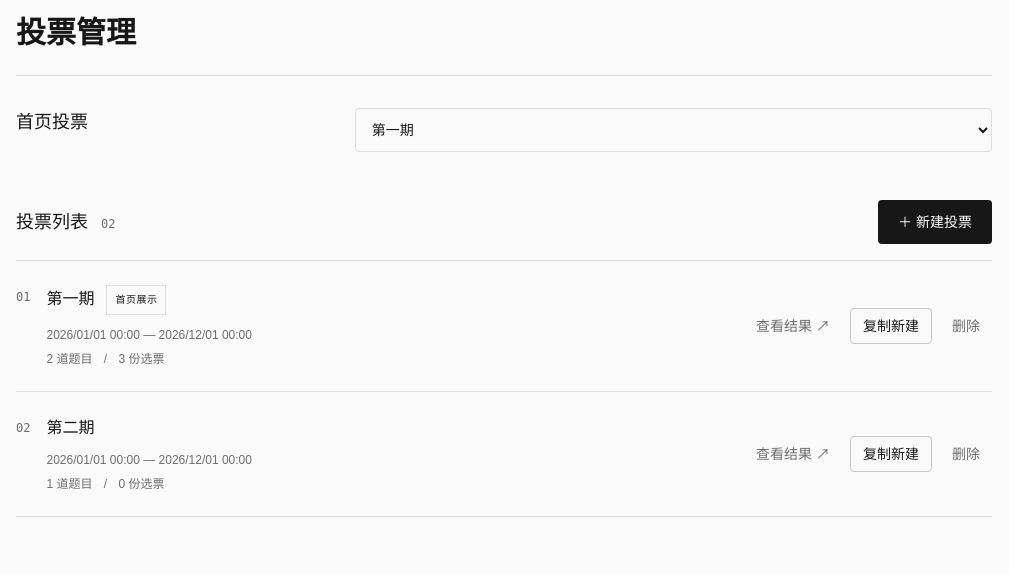
it: switches homepage and explicitly deactivates without deleting polls
The image size is (1009, 574).
Select "第二期" in the dropdown labelled "首页投票" at [673, 130], box x1=355 y1=108 x2=992 y2=152
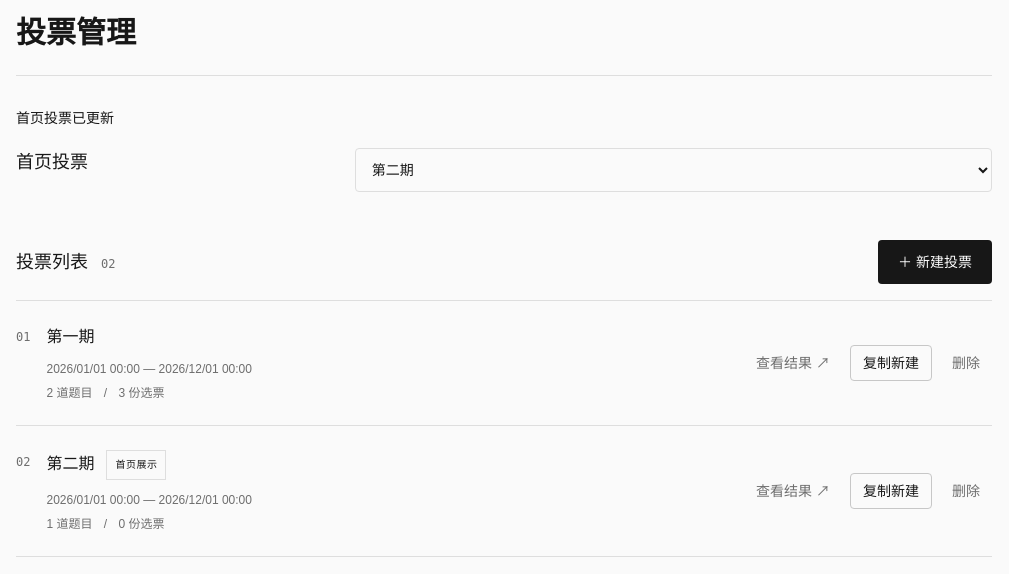
Select "不展示投票" in the dropdown labelled "首页投票" at [673, 170], box x1=355 y1=148 x2=992 y2=192
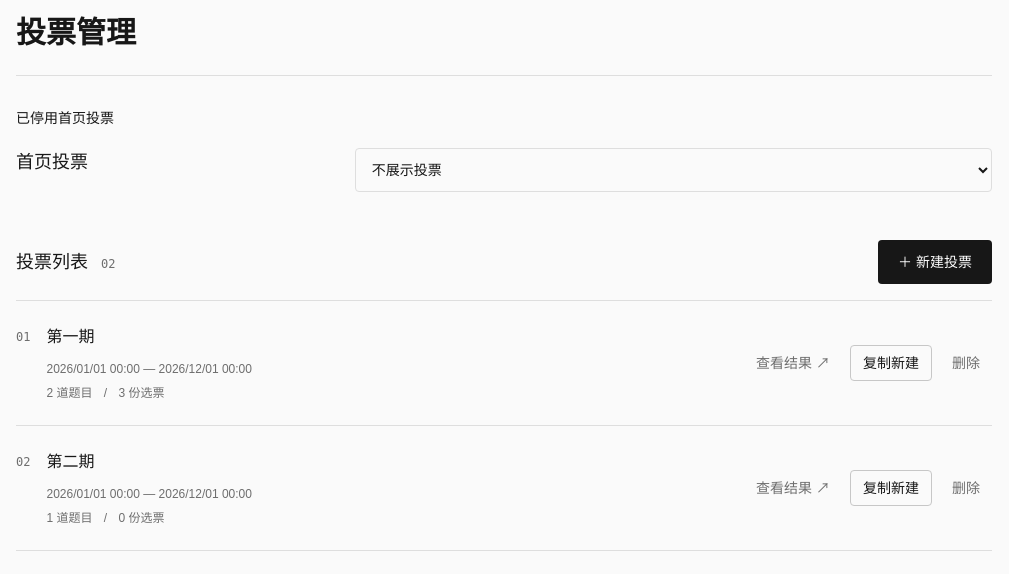
Check: the button with aria-label "复制第一期" is shown, box x1=850 y1=345 x2=932 y2=381
Check: the text "已停用首页投票" is shown, box x1=16 y1=110 x2=114 y2=126
